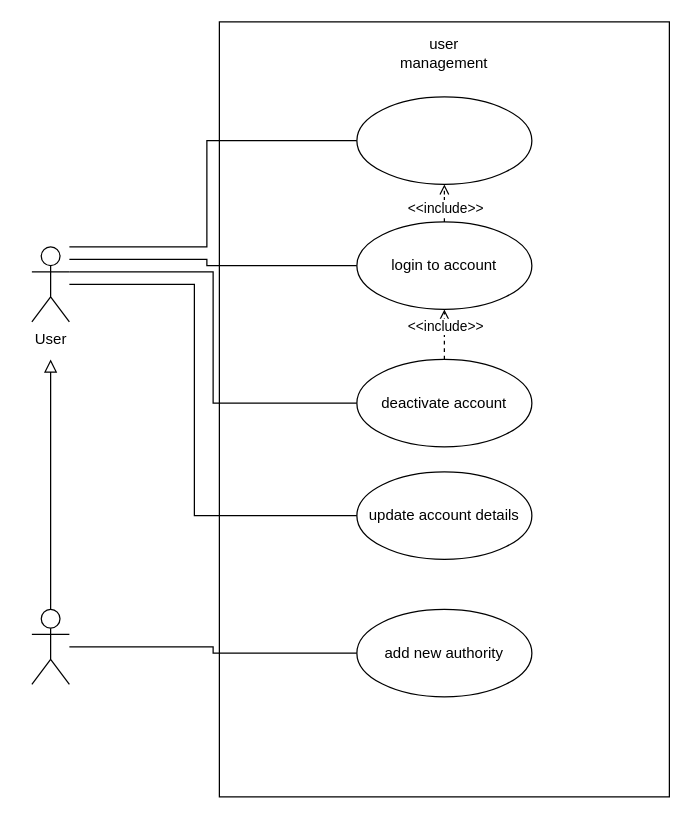
This 691x819 diagram has some shape labels left out. The shapes that lost their labels are listed below. From the top down, each one's box as (x1, y1, x2, y2) in pixels, then its label:
(356, 96, 532, 184): register new account
(31, 608, 69, 684): Authority
